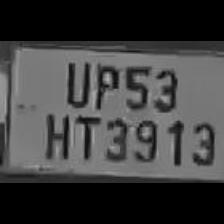1: (160, 114, 188, 166)
3: (186, 116, 218, 166), (149, 63, 181, 111), (100, 112, 128, 164)
5: (118, 60, 150, 110)
9: (130, 114, 158, 164)
H: (38, 109, 70, 161)
P: (90, 58, 120, 108)
T: (71, 111, 99, 160)
U: (59, 56, 91, 106)
